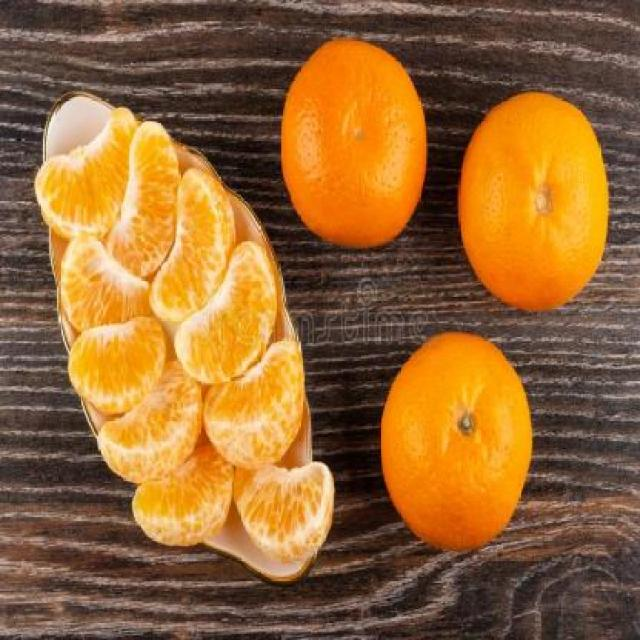Orange: (34, 100, 335, 583), (378, 329, 532, 551), (456, 89, 610, 311), (278, 36, 428, 250)
